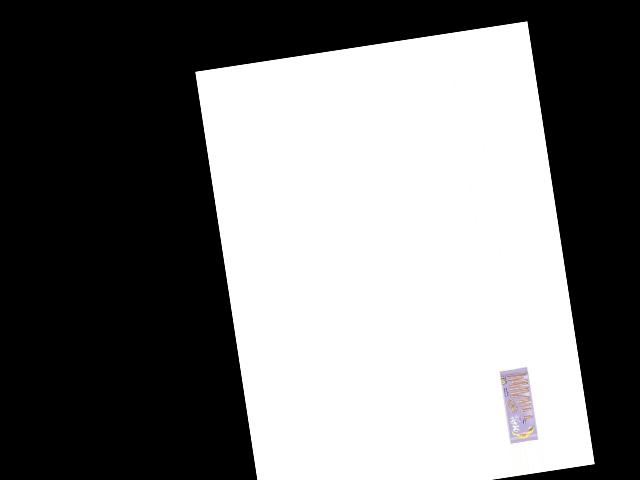chocolate: (498, 364, 542, 444)
